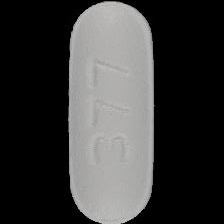16590-229: (0, 0, 224, 224)
